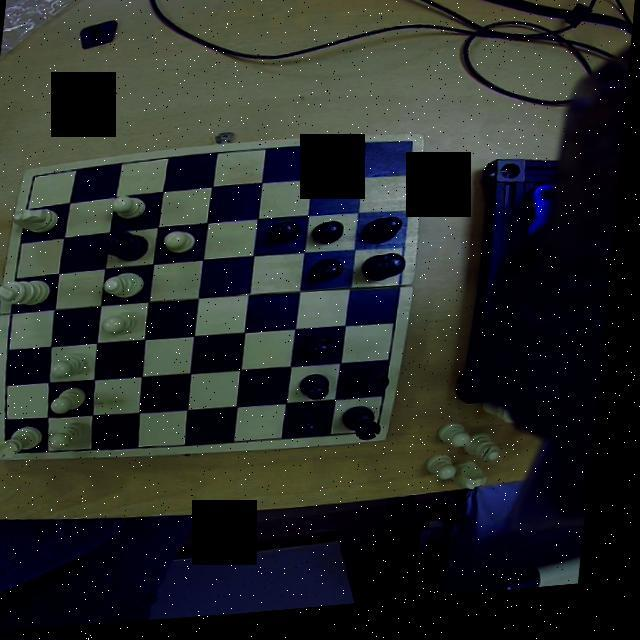chess-table-corners: (398, 142, 424, 164), (374, 423, 398, 446), (2, 443, 31, 460), (25, 170, 48, 190)
